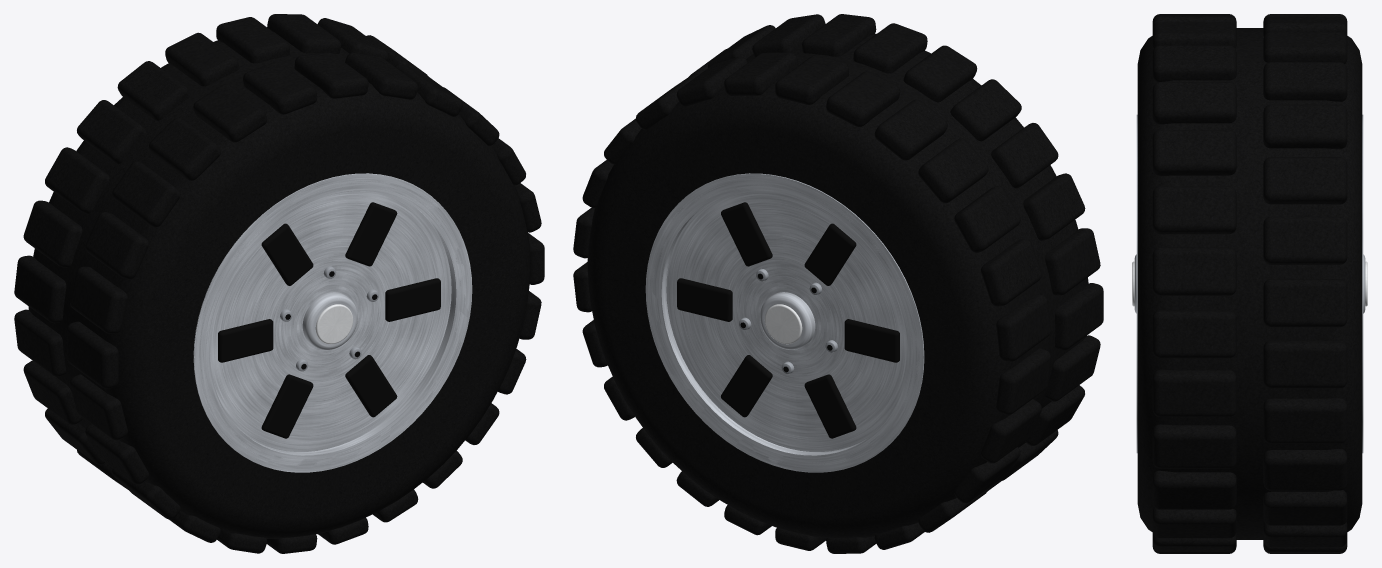
File: wheel.dae
The picture shows the model from 3 angles, left to right: view 1: azimuth 30°, elevation 25°; view 2: azimuth 150°, elevation 25°; view 3: azimuth 270°, elevation 25°; orthographic projection. The views are drawn at different scales.
Visible parts, largest first — view 1: wheel; view 2: wheel; view 3: wheel.
Boxes of the visible parts, <box> form: wheel: <box>14,14,544,553</box>; wheel: <box>573,14,1103,553</box>; wheel: <box>1132,14,1367,553</box>.
Size of the model in its own units: 0.18 by 0.0786 by 0.18.
Materials: 5 (3 with a texture image).
